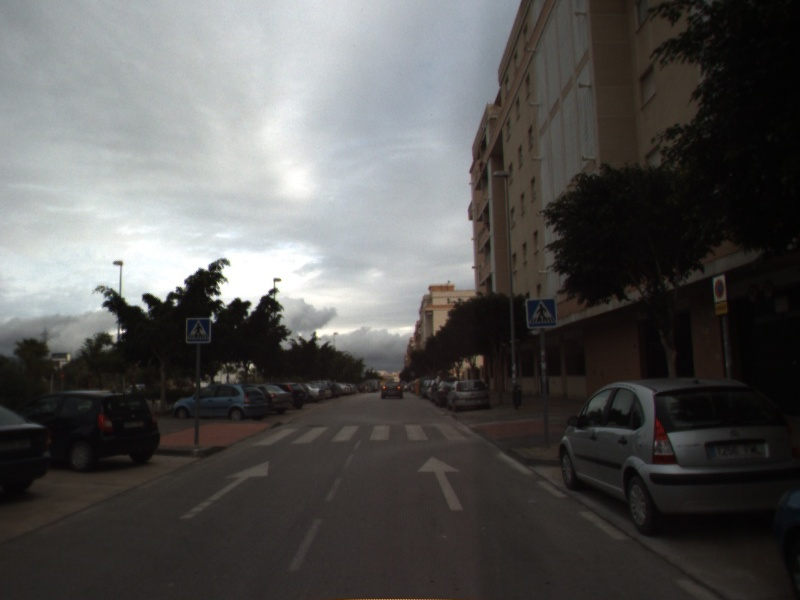STRAIGHT: (177, 459, 271, 521), (415, 454, 465, 512)
